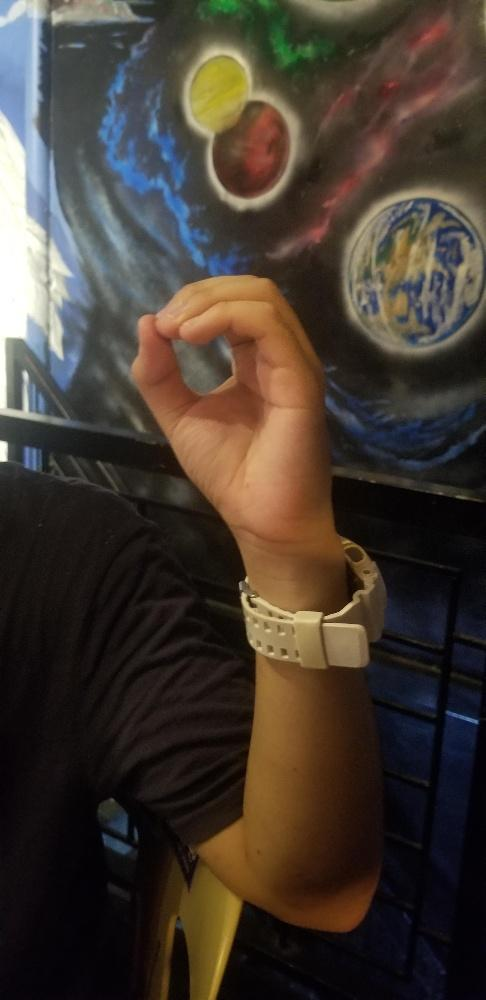o: (127, 273, 330, 511)
